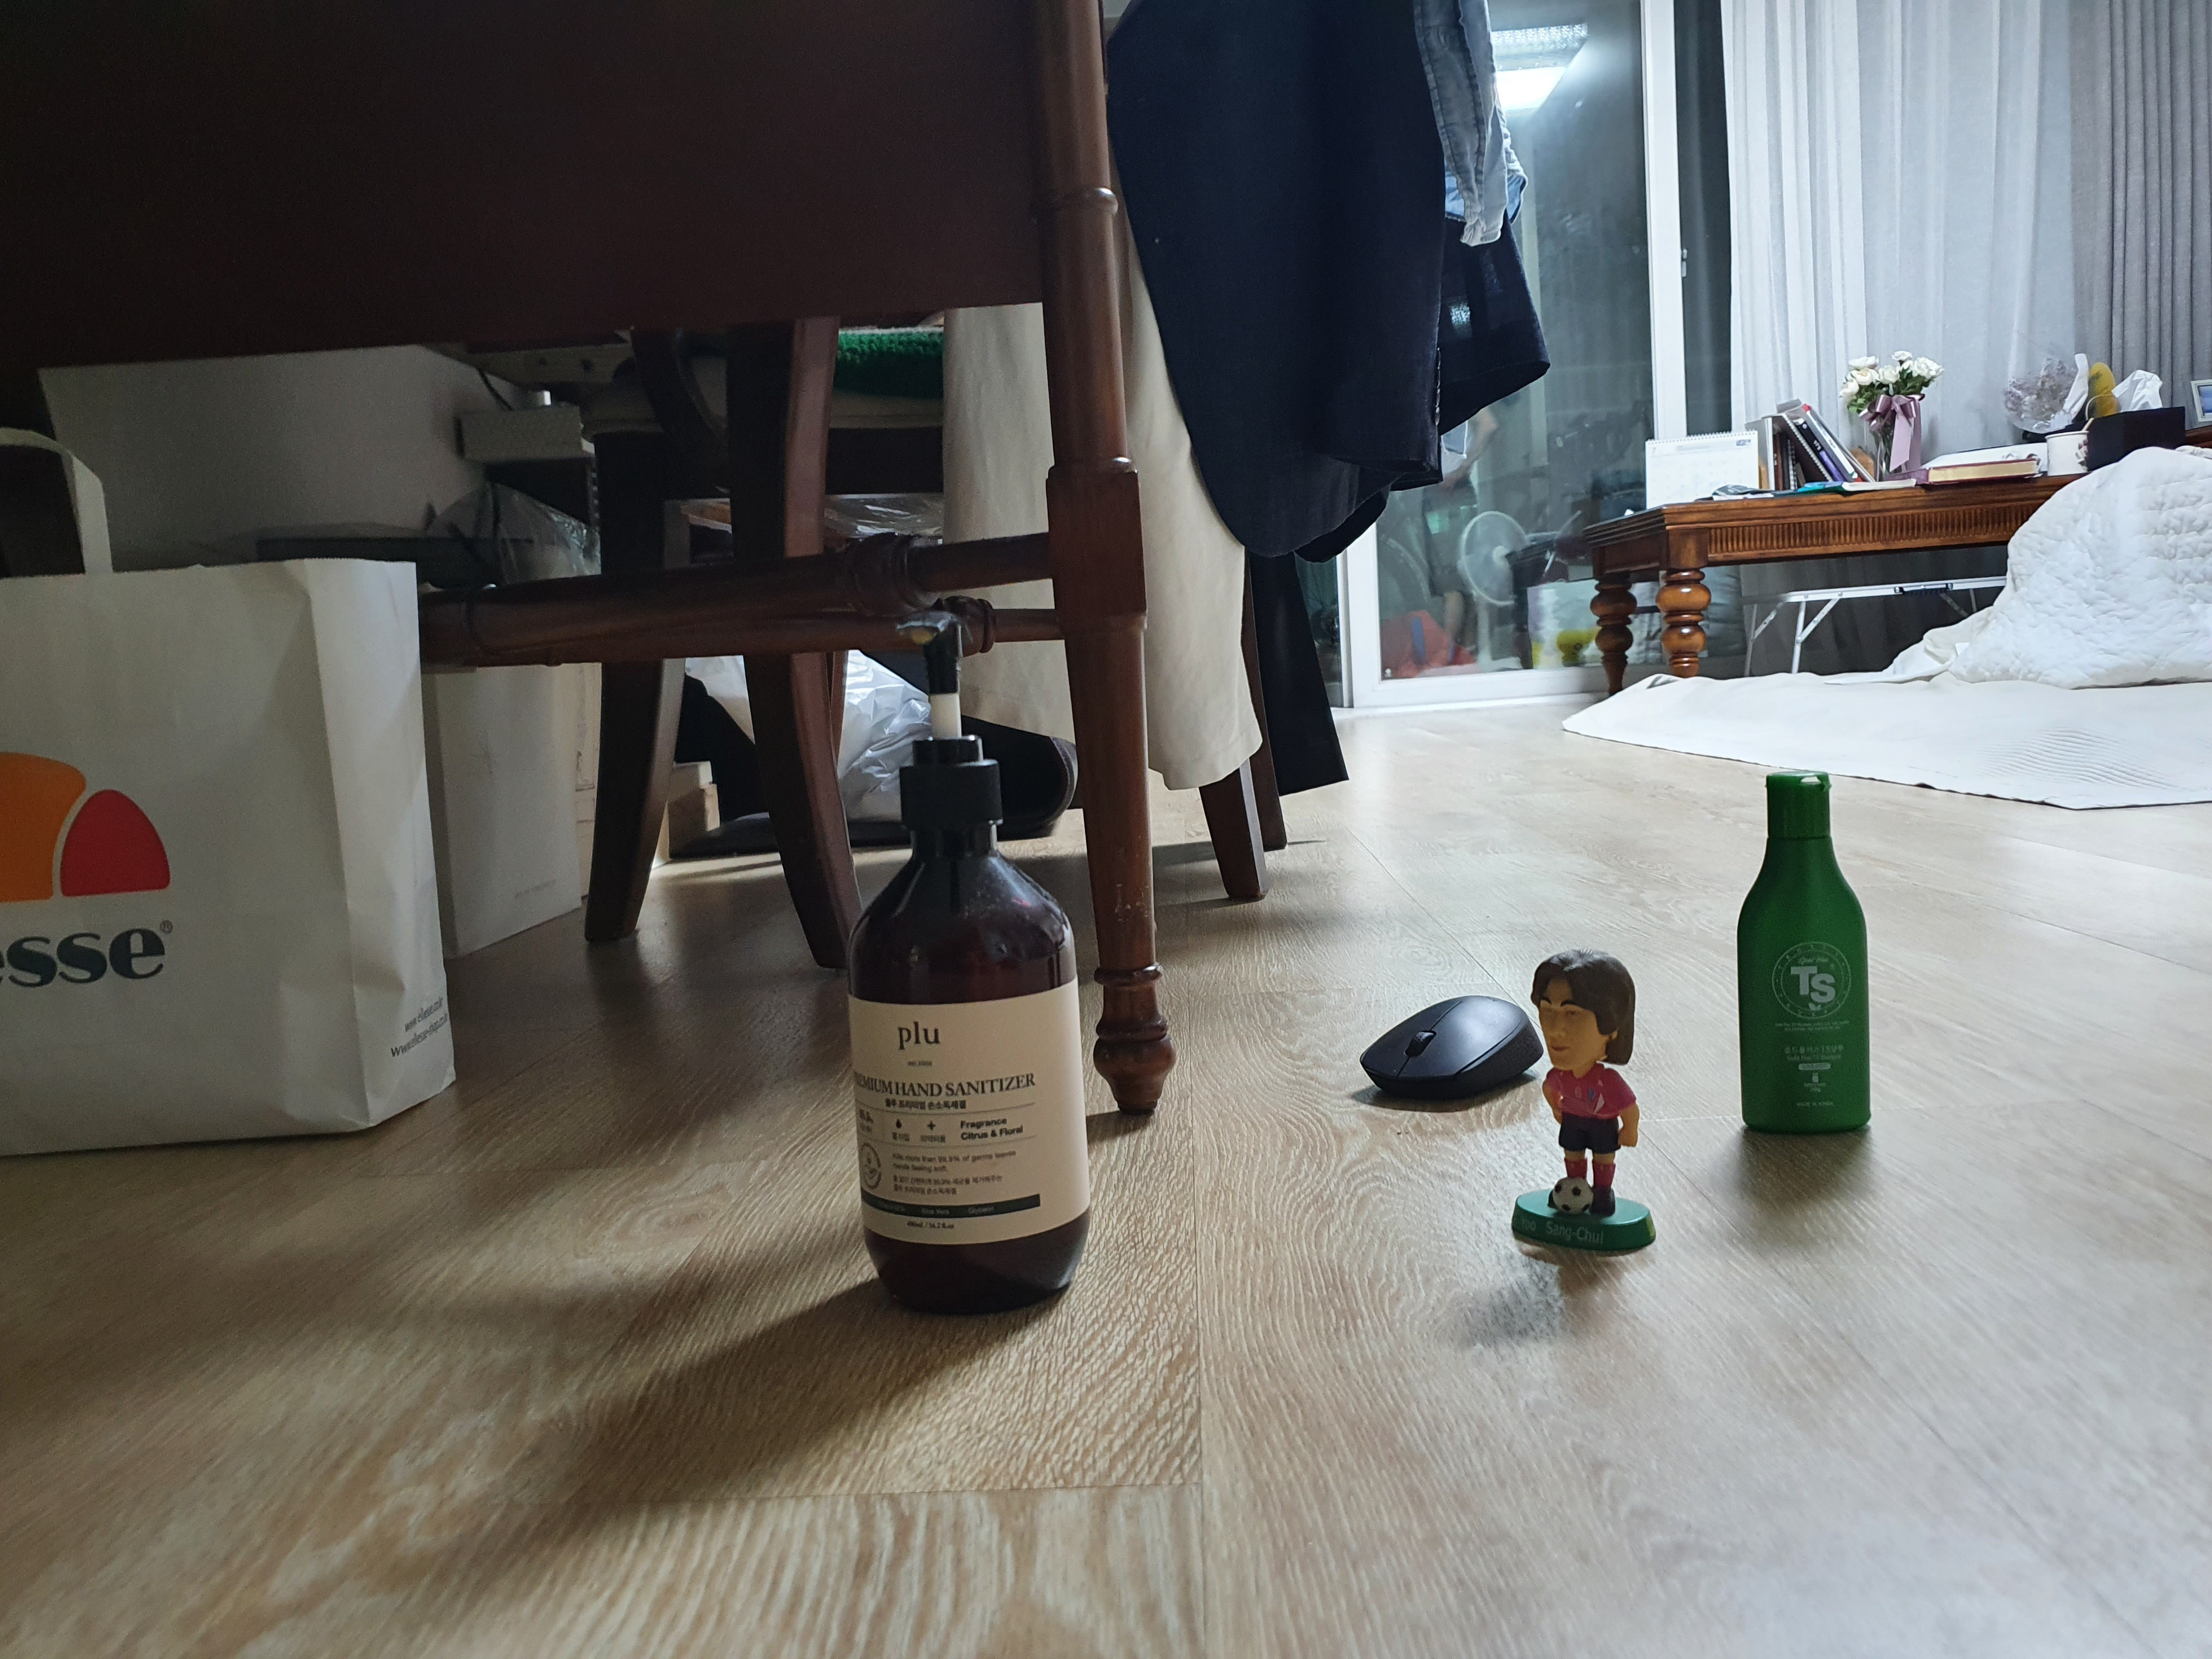bottle: (754, 579, 1214, 1377)
mouse: (1329, 948, 1547, 1126)
shampoo: (1703, 749, 1921, 1168)
yoo: (1517, 913, 1702, 1328)
